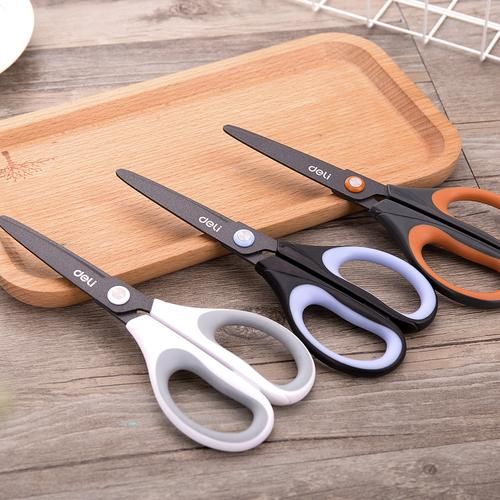scissor: (1, 215, 319, 452), (114, 167, 437, 378)
